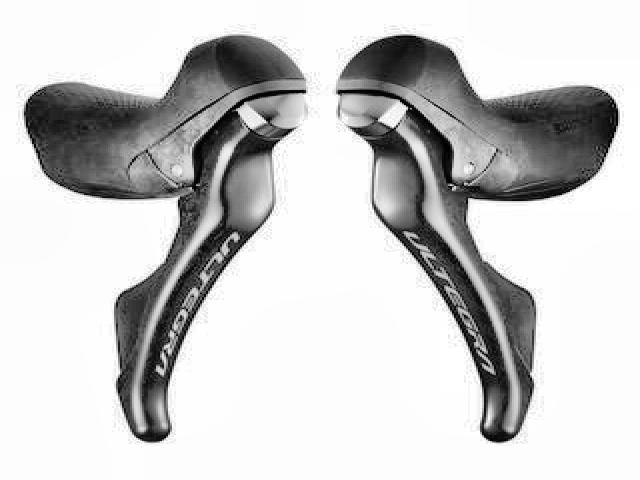sti_shifter: (24, 32, 314, 447), (331, 30, 613, 440)
